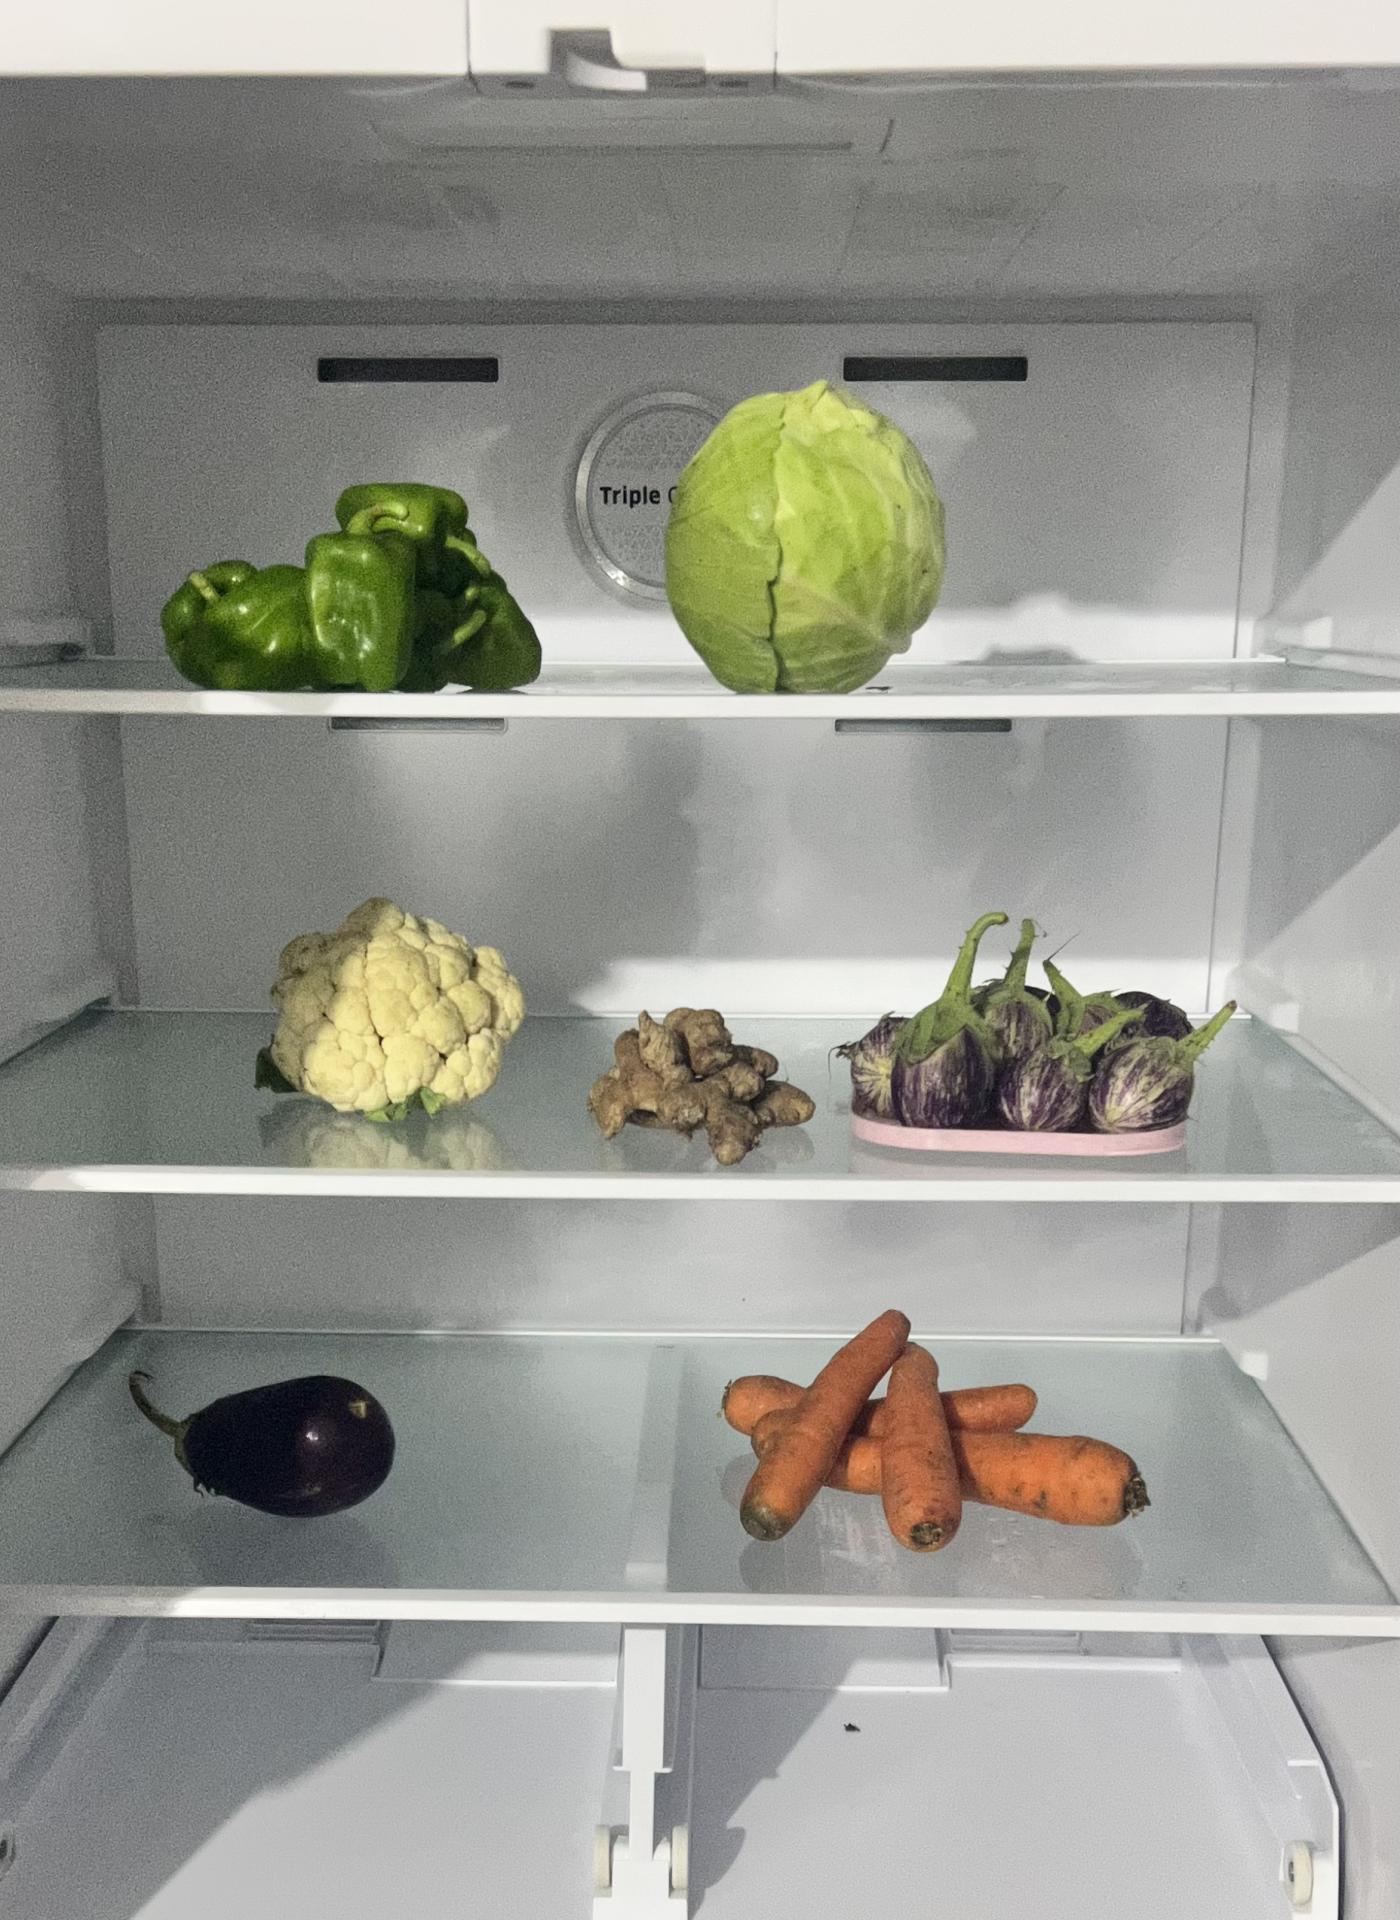brinjal: (851, 975, 1209, 1139), (127, 1364, 400, 1519)
cabbage: (663, 382, 944, 693)
capsicum: (160, 479, 538, 686)
carrots: (726, 1310, 1151, 1546)
cauliflower: (273, 905, 531, 1115)
ginger: (593, 1005, 816, 1158)
